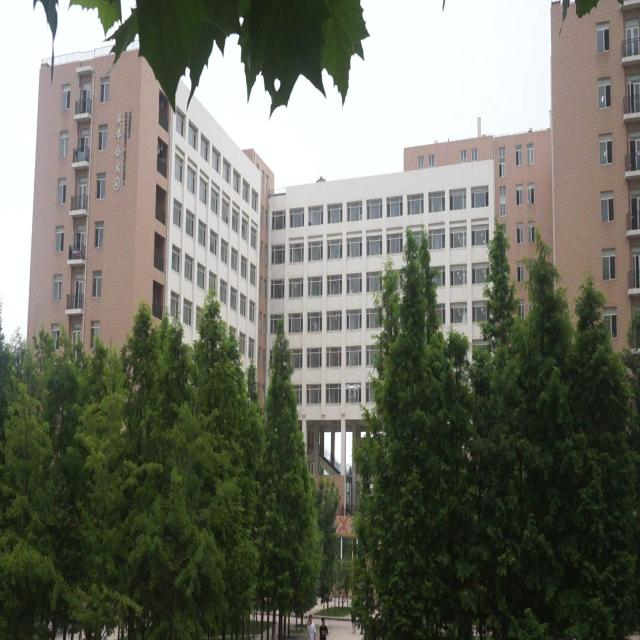drone: (344, 381, 357, 400)
